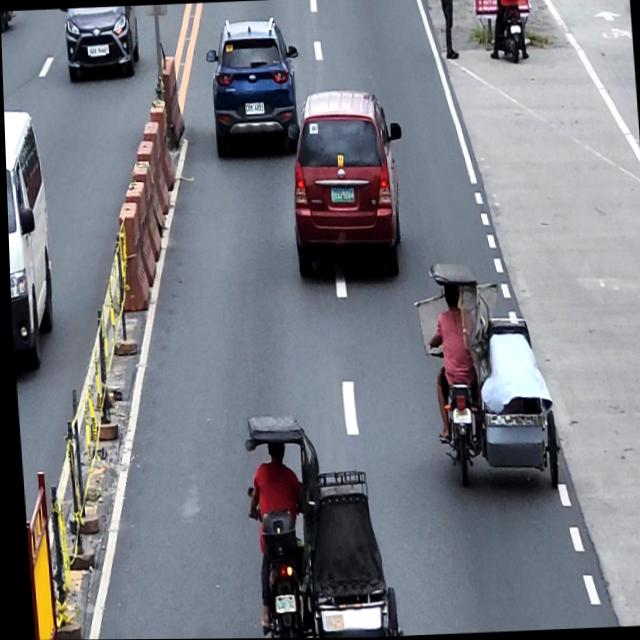Car: (285, 86, 410, 283), (203, 15, 304, 157), (3, 109, 53, 371), (61, 5, 141, 85)
License-Plate: (328, 186, 354, 205), (269, 594, 291, 613), (448, 407, 469, 424), (86, 43, 109, 57), (243, 102, 263, 115), (510, 24, 520, 35)
Motorcycle: (496, 0, 526, 63)
Tricycle: (237, 409, 397, 639), (417, 260, 560, 490)
